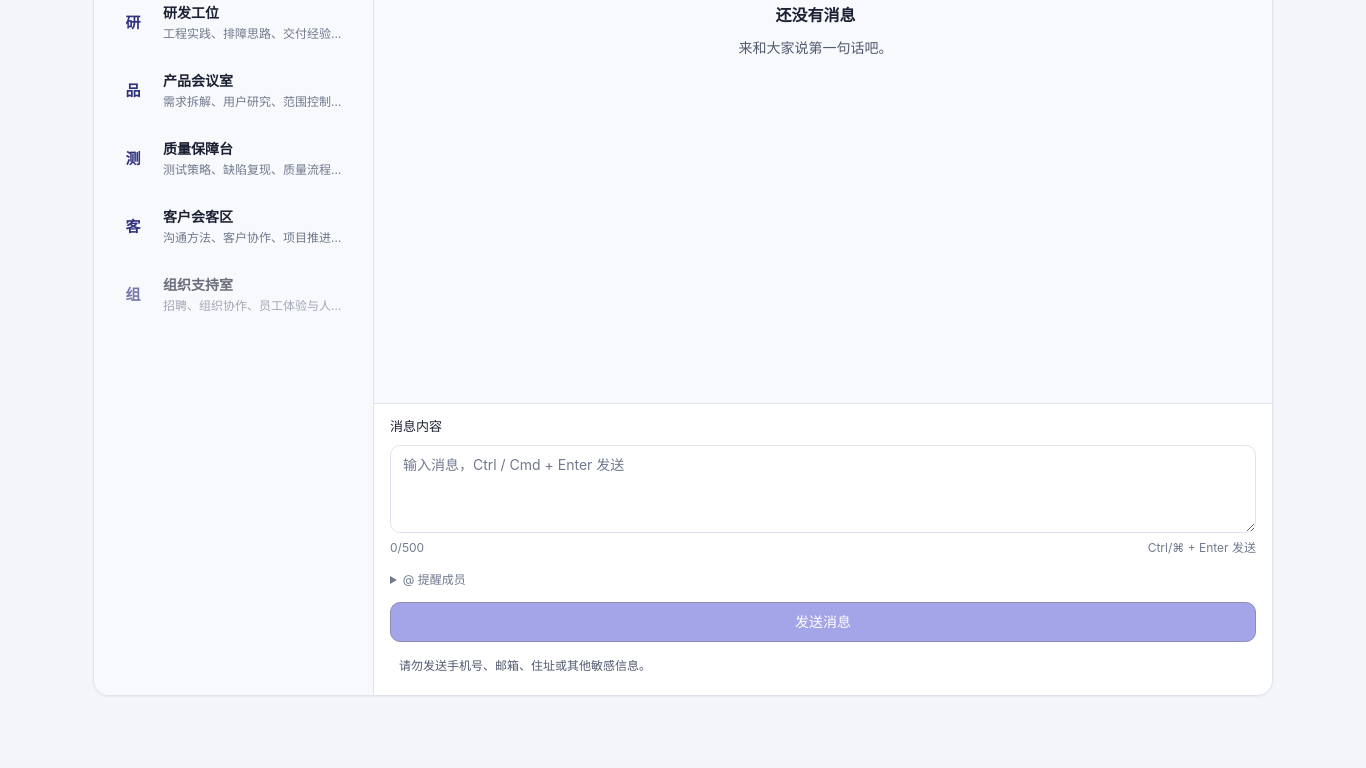
it: community fixed chat pages › recovers an acknowledged send when its realtime created frame is lost
(page scrolled)
Type "这是一条真实服务端消息" into the text box labelled "消息内容" at x=823, y=489, box [390,445,1256,533]
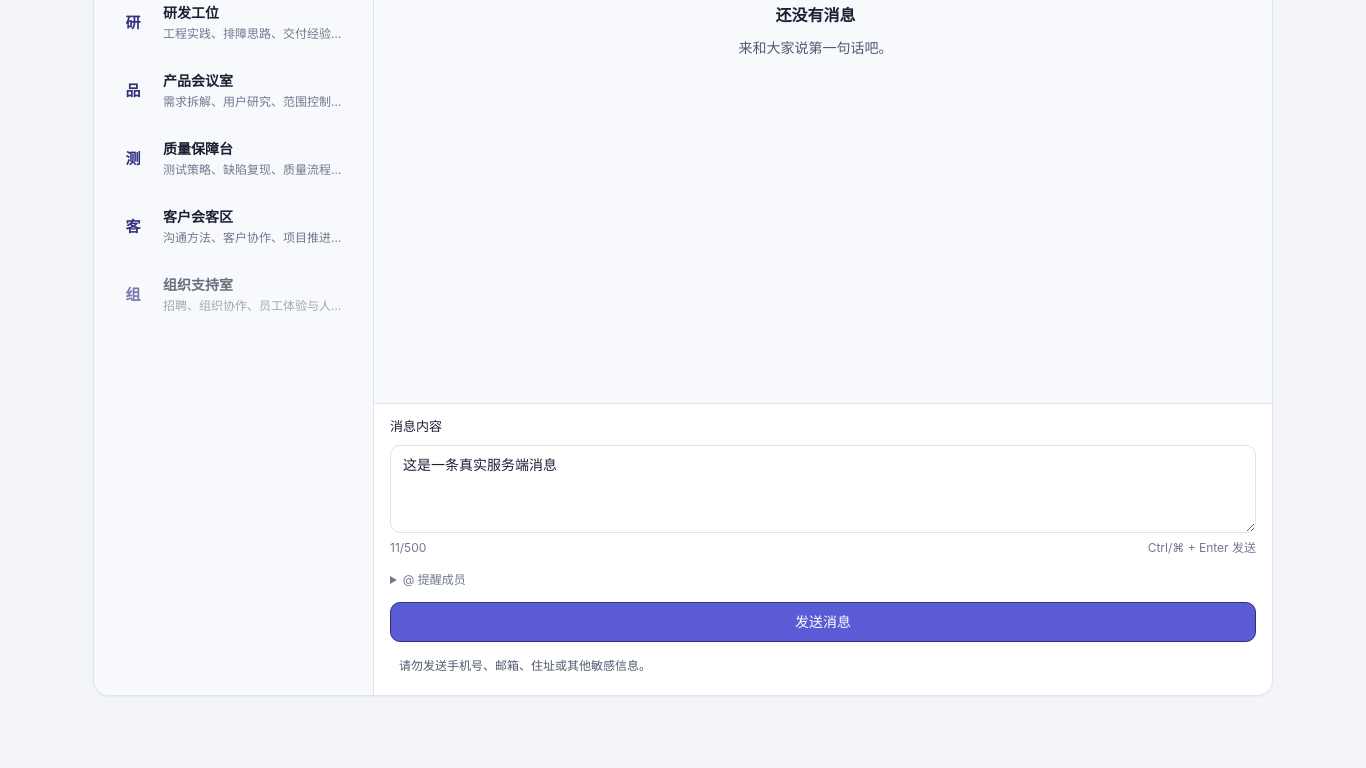
Click the button "发送消息" at x=823, y=622, box [390,602,1256,642]
(page scrolled)
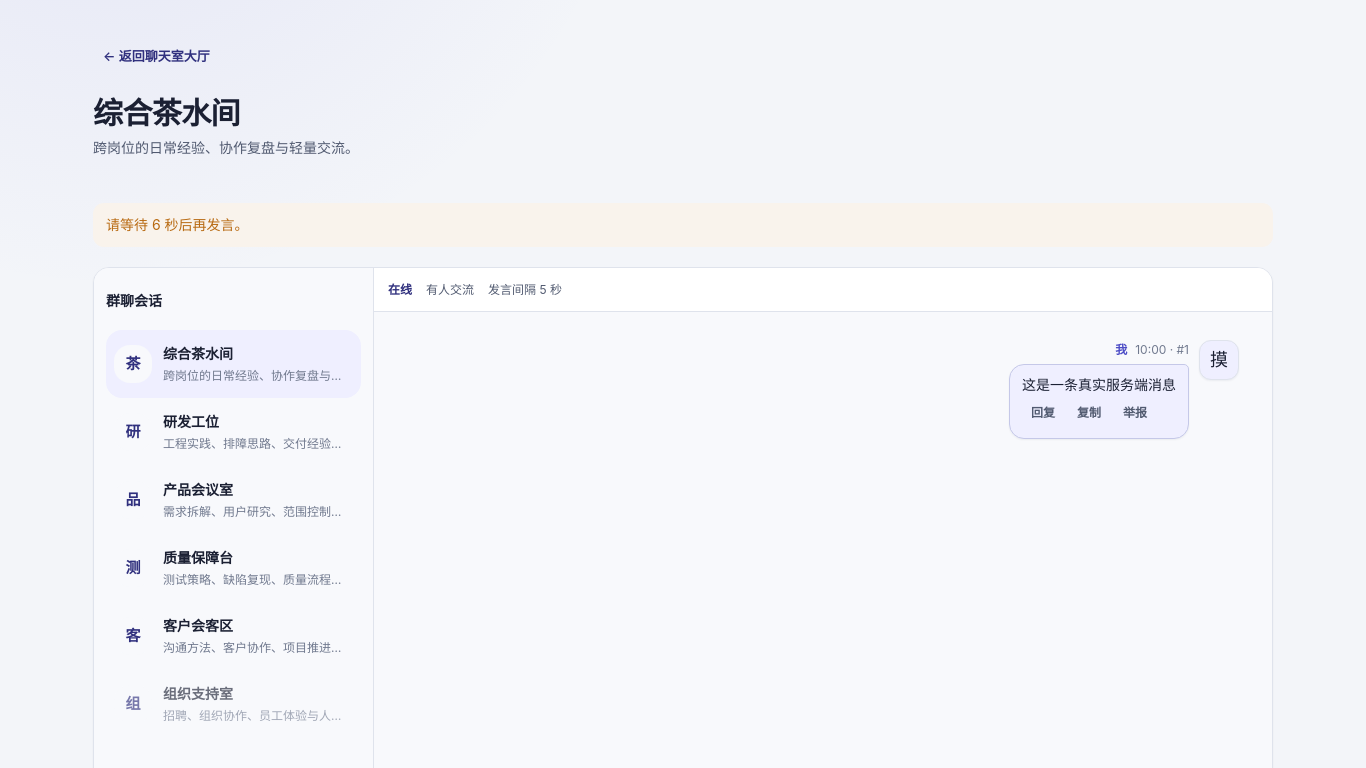
expect the text "这是一条真实服务端消息" is shown: met, box [1022,374,1176,395]
